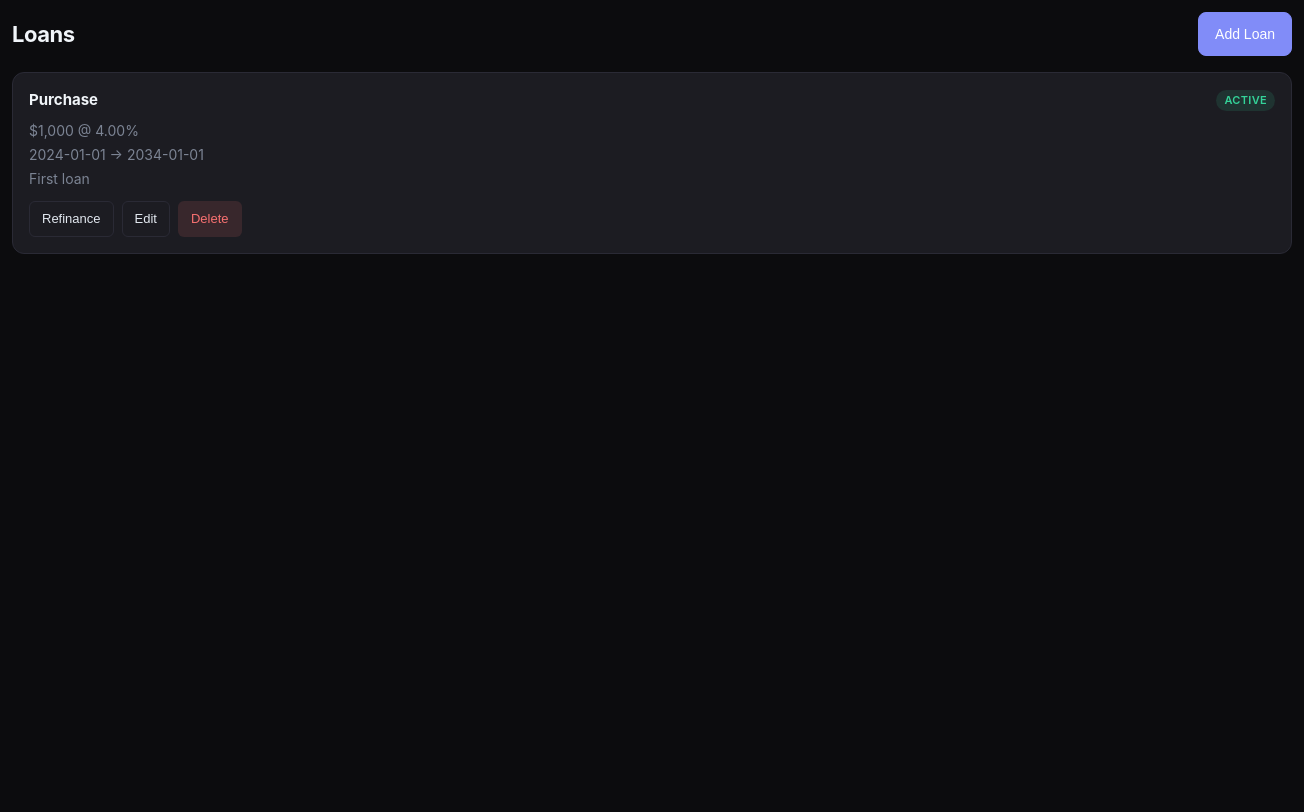
Test: LoansPage › can edit a loan
The width and height of the screenshot is (1304, 812).
Check: the text "Purchase" is shown, box [29,89,98,112]
Click the button "Edit" at (146, 219), box [122,201,170,237]
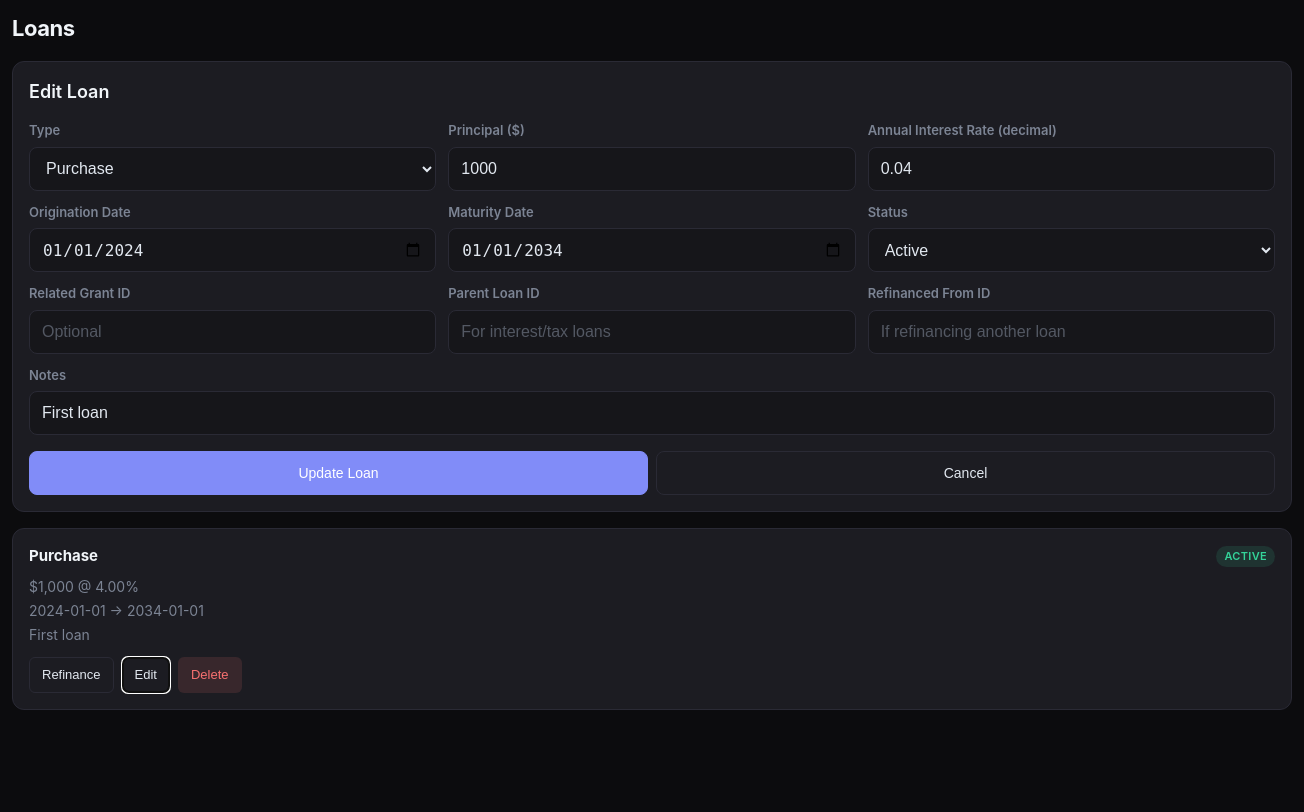
Check: the heading "Edit Loan" is shown, box [29,81,109,102]
Check: the number field labelled "Principal ($)" holds "1000", box [448,146,856,190]
